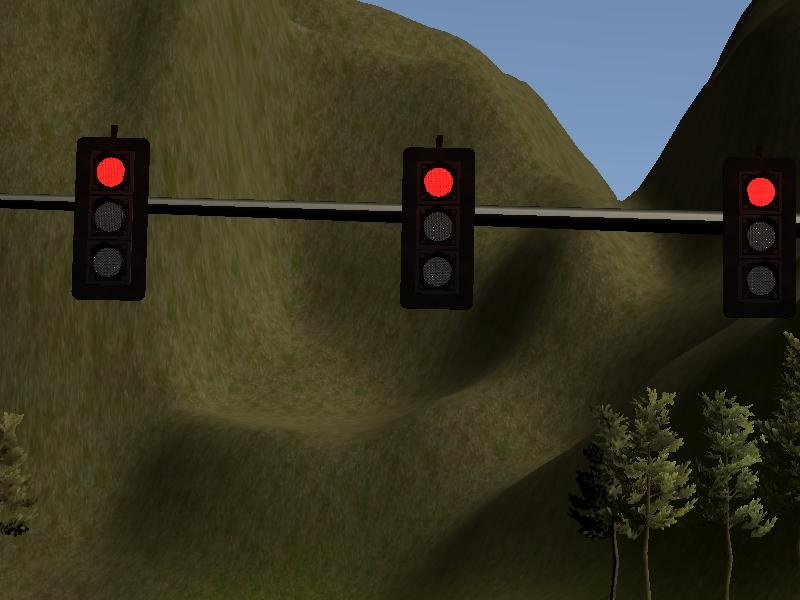RED: (400, 146, 473, 309), (72, 137, 145, 300), (724, 155, 797, 318)
